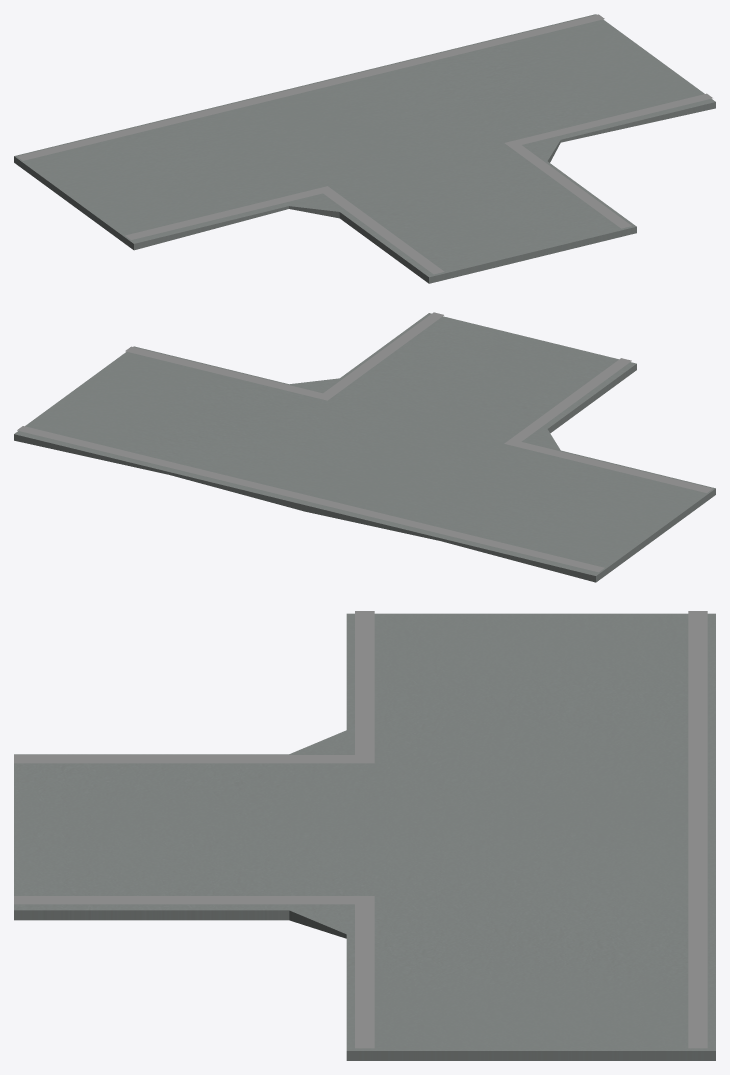
Rendered from Road_T.fbx.
3 renders of one model, top to bottom at view 1: azimuth 30°, elevation 25°; view 2: azimuth 150°, elevation 25°; view 3: azimuth 270°, elevation 25°, orthographic. The views are drawn at different scales.
Visible parts, largest first — view 1: Road_T; view 2: Road_T; view 3: Road_T.
Boxes of the visible parts, x1,y1,x2,y2 form: Road_T: [14, 14, 715, 283]; Road_T: [14, 312, 715, 582]; Road_T: [14, 611, 715, 1060].
Size of the model in its own units: 1500 by 20.29 by 1018.
